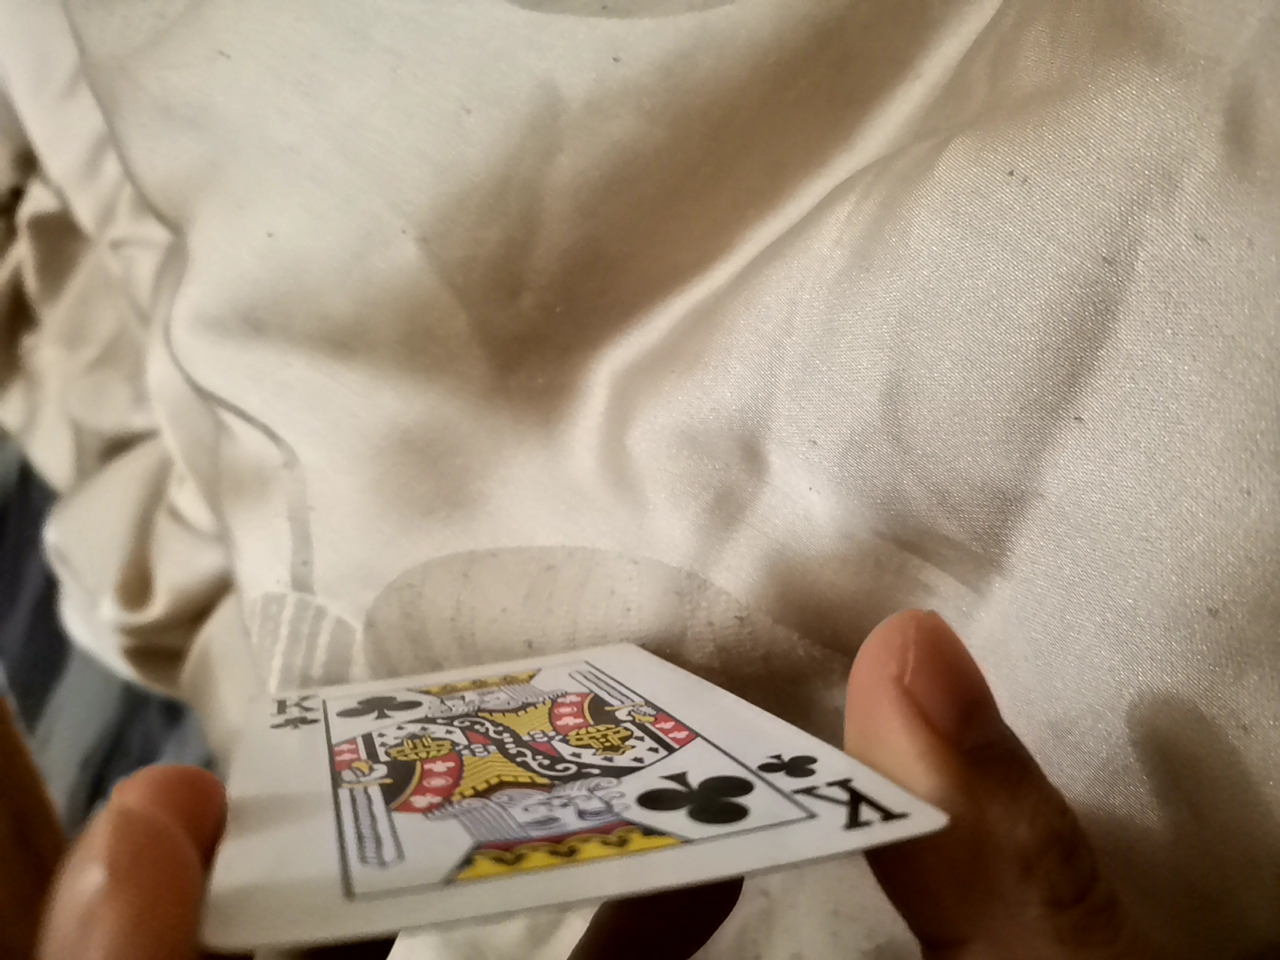mh k: (217, 561, 962, 955)
